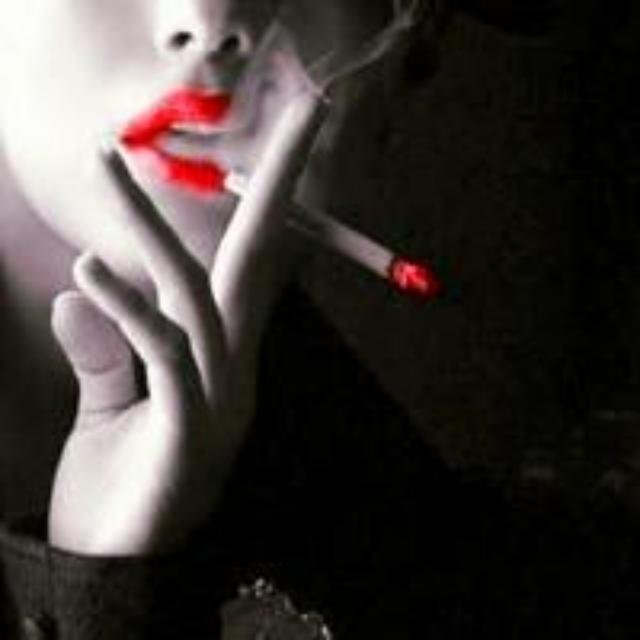Cigarette: (290, 196, 442, 304)
